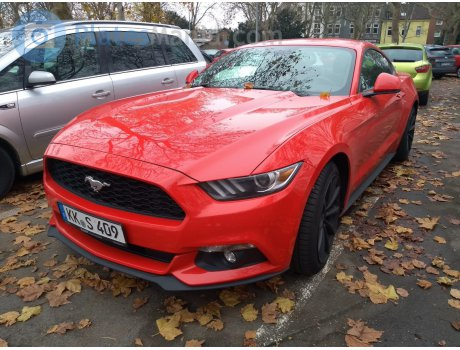License Plates: (73, 213, 117, 238), (82, 212, 101, 225)
